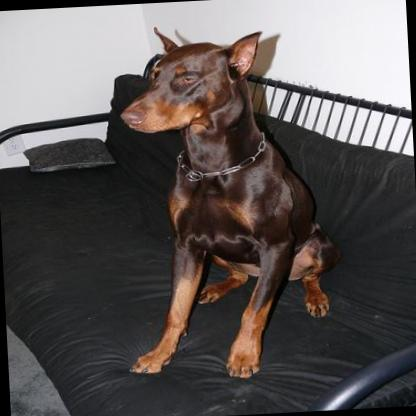Doberman: (102, 13, 344, 388)
